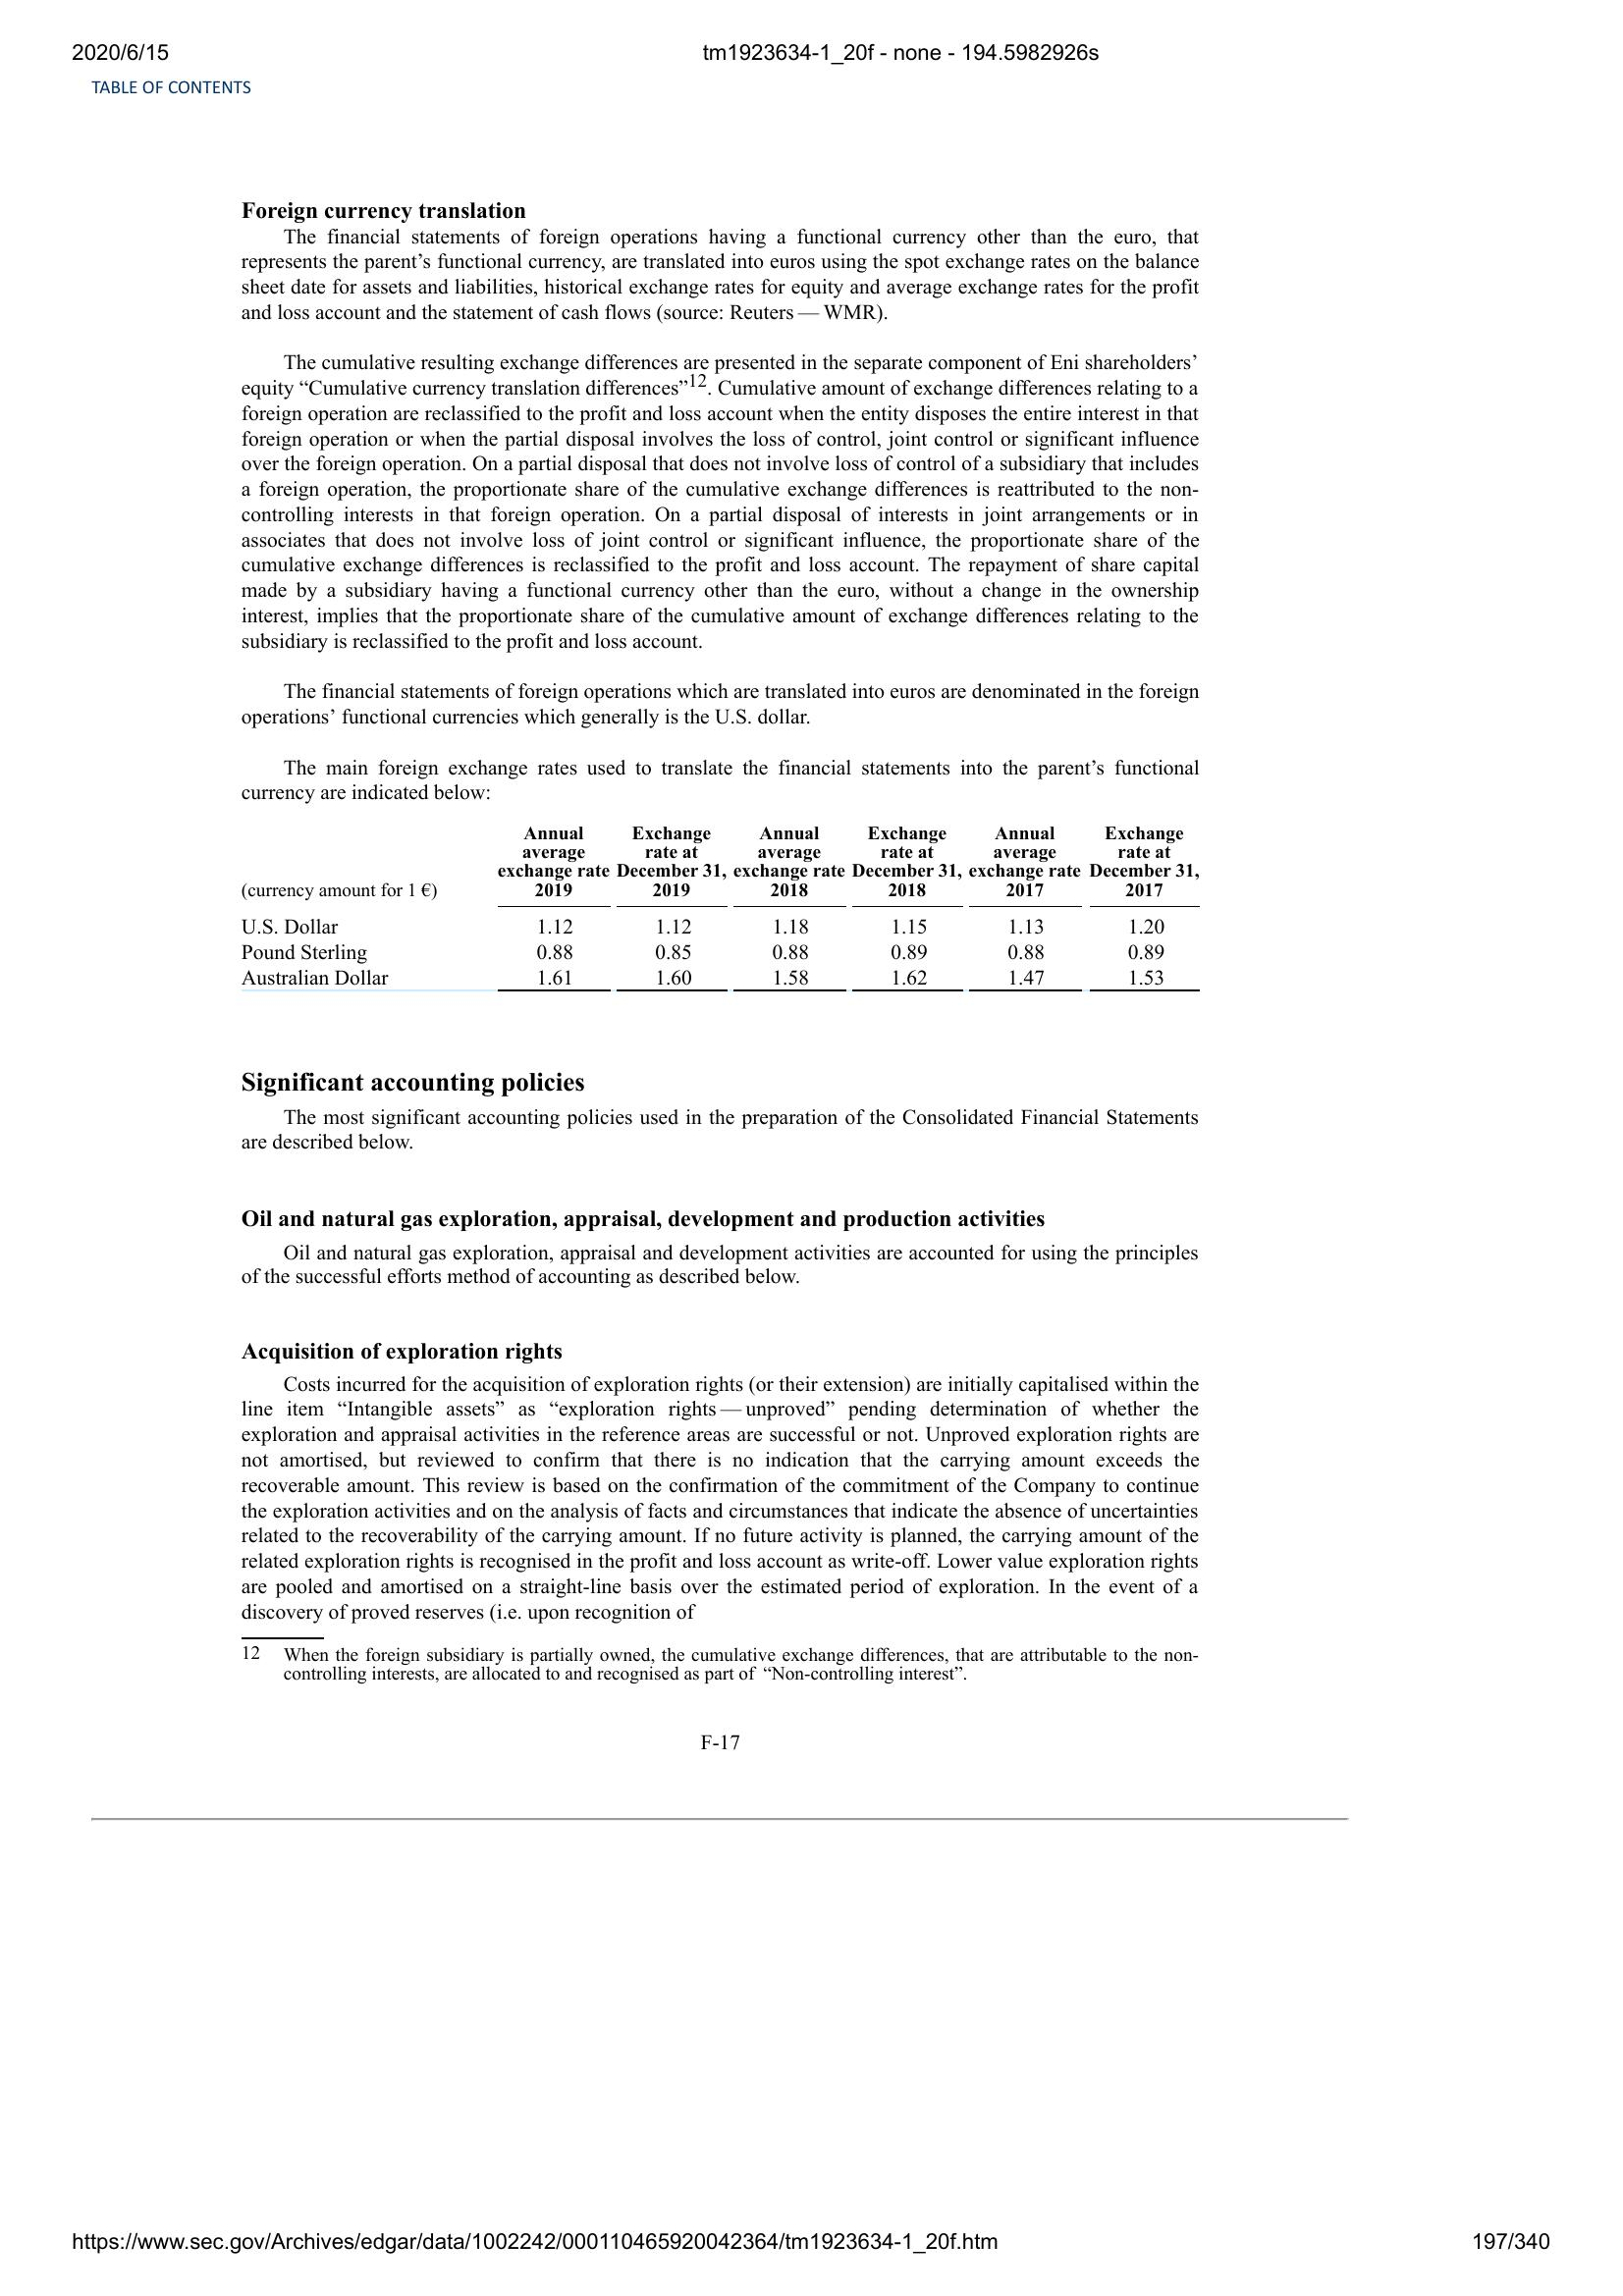table: (235, 822, 1203, 992)
